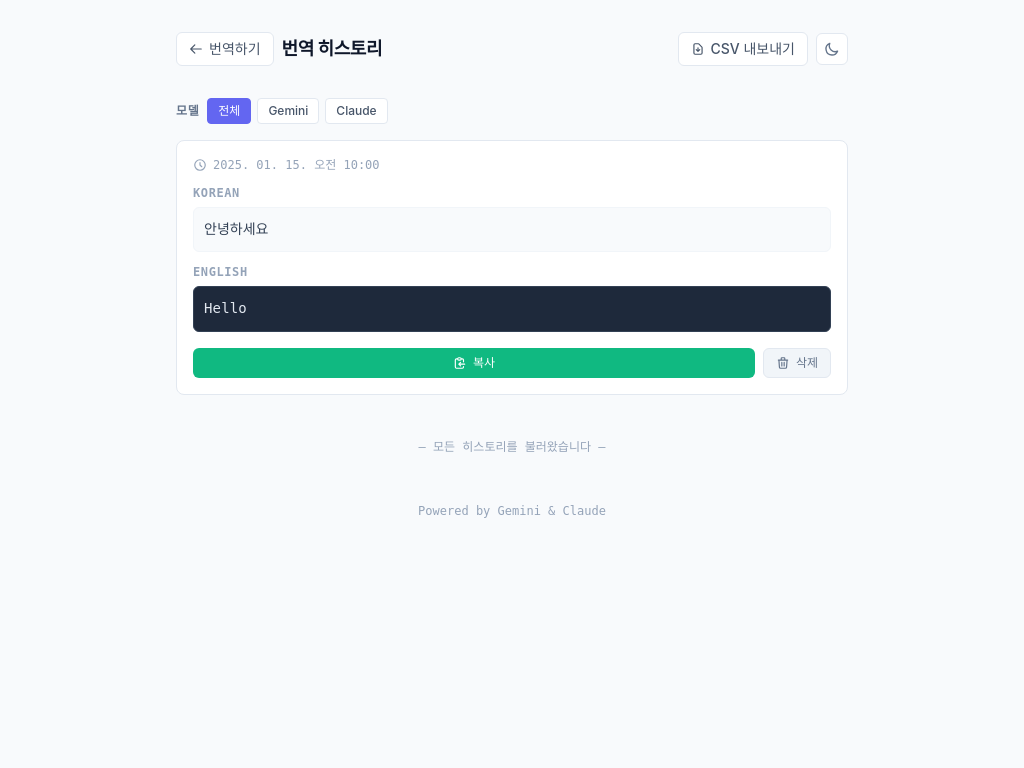
History Page › cancels delete when modal cancel is clicked
This screenshot has width=1024, height=768.
Click the button "삭제": [797, 362] box [763, 348, 831, 378]
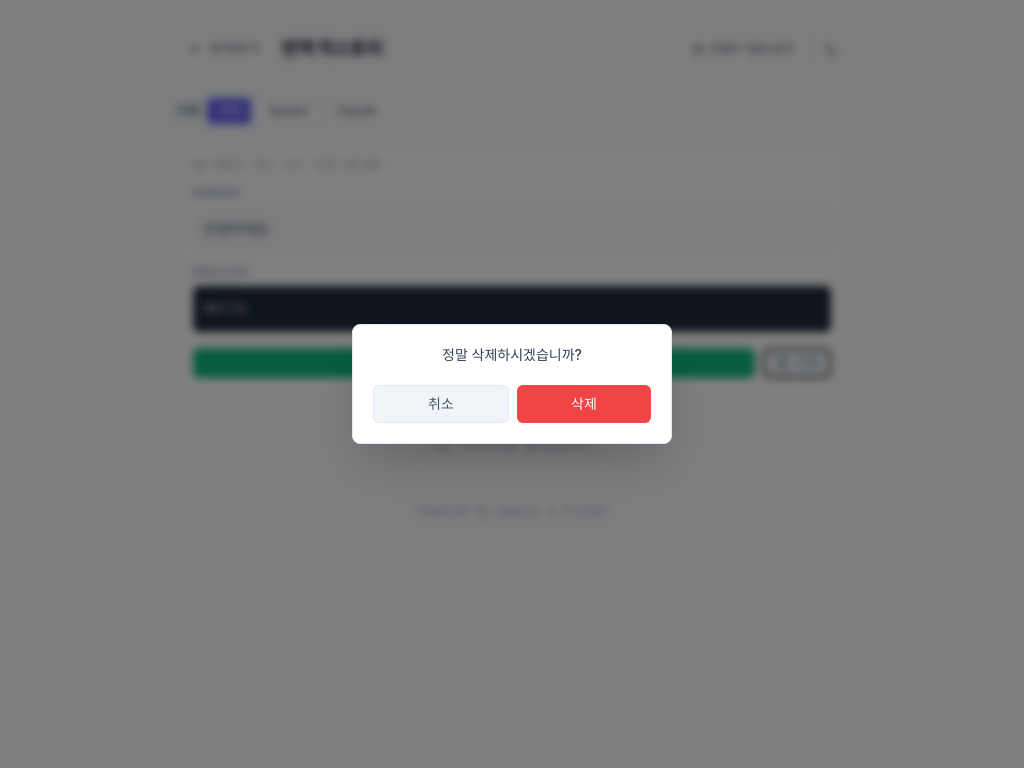
Click the button "취소": [441, 404] box [373, 385, 509, 423]
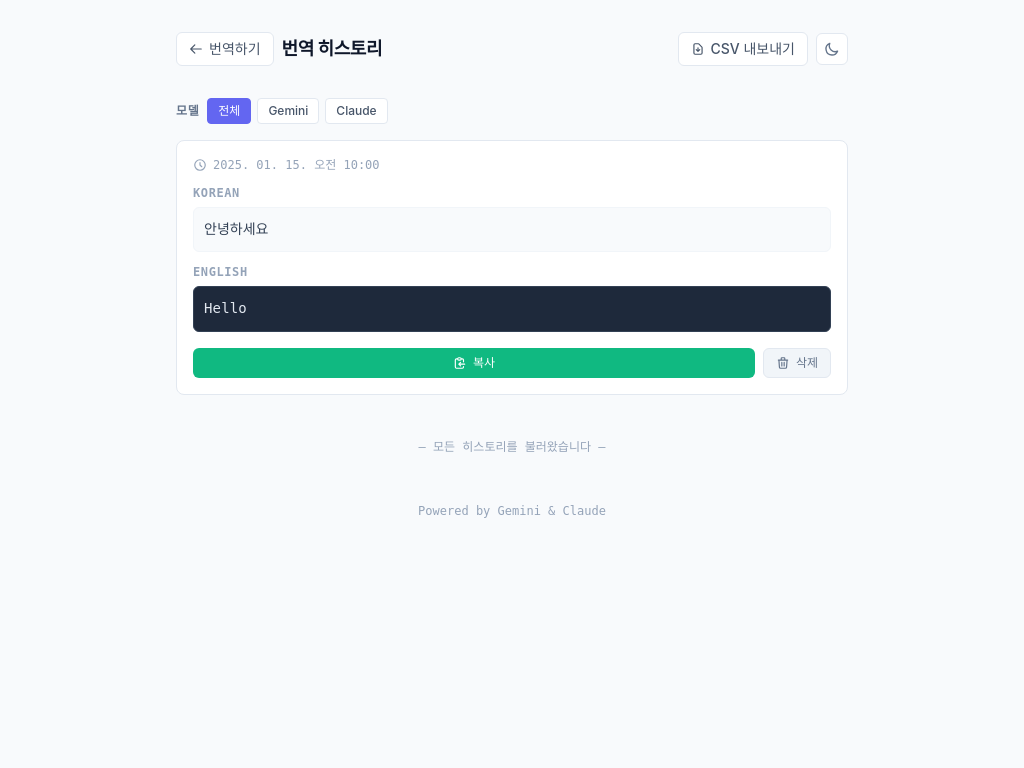
Now the text "정말 삭제하시겠습니까?" is gone
